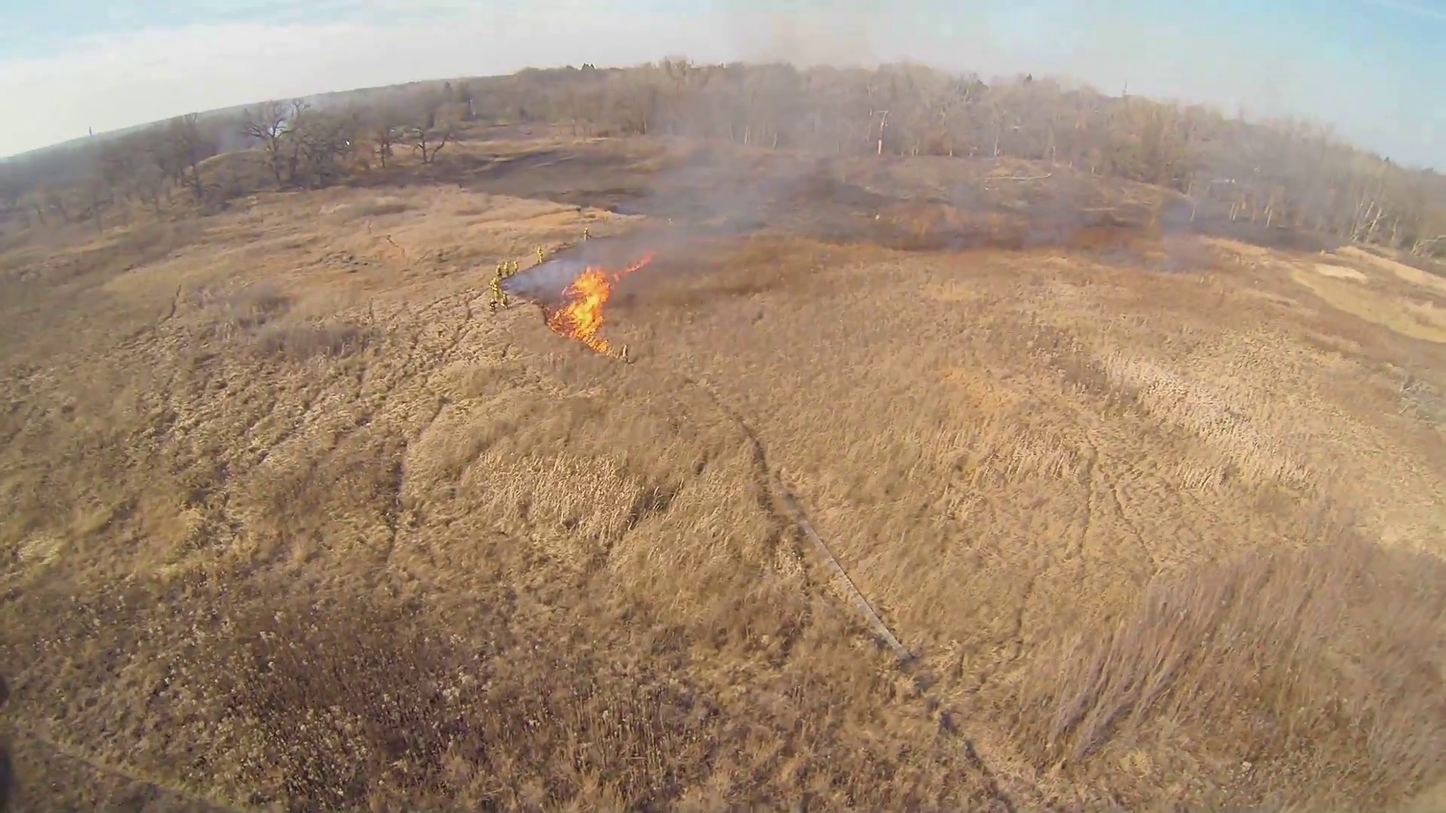forest_fire: (548, 254, 651, 354)
